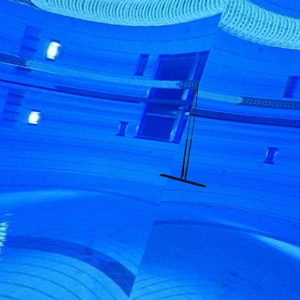circle: (159, 82, 207, 190)
